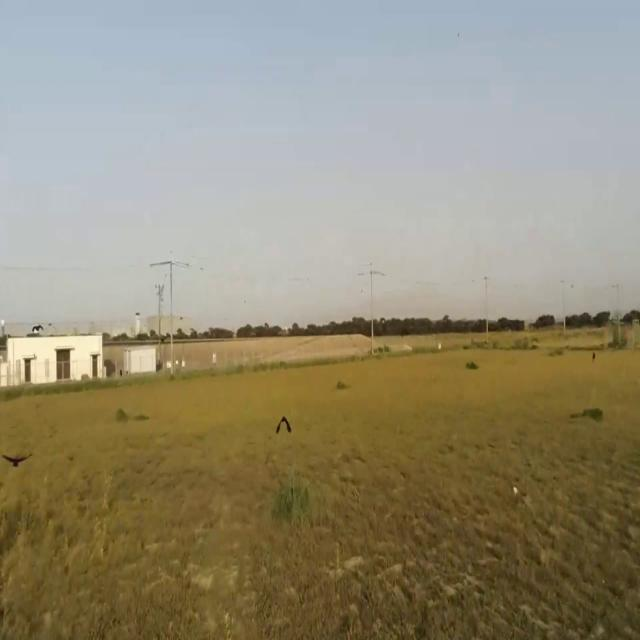bird: (2, 443, 28, 476), (276, 407, 292, 442), (30, 317, 46, 335)
